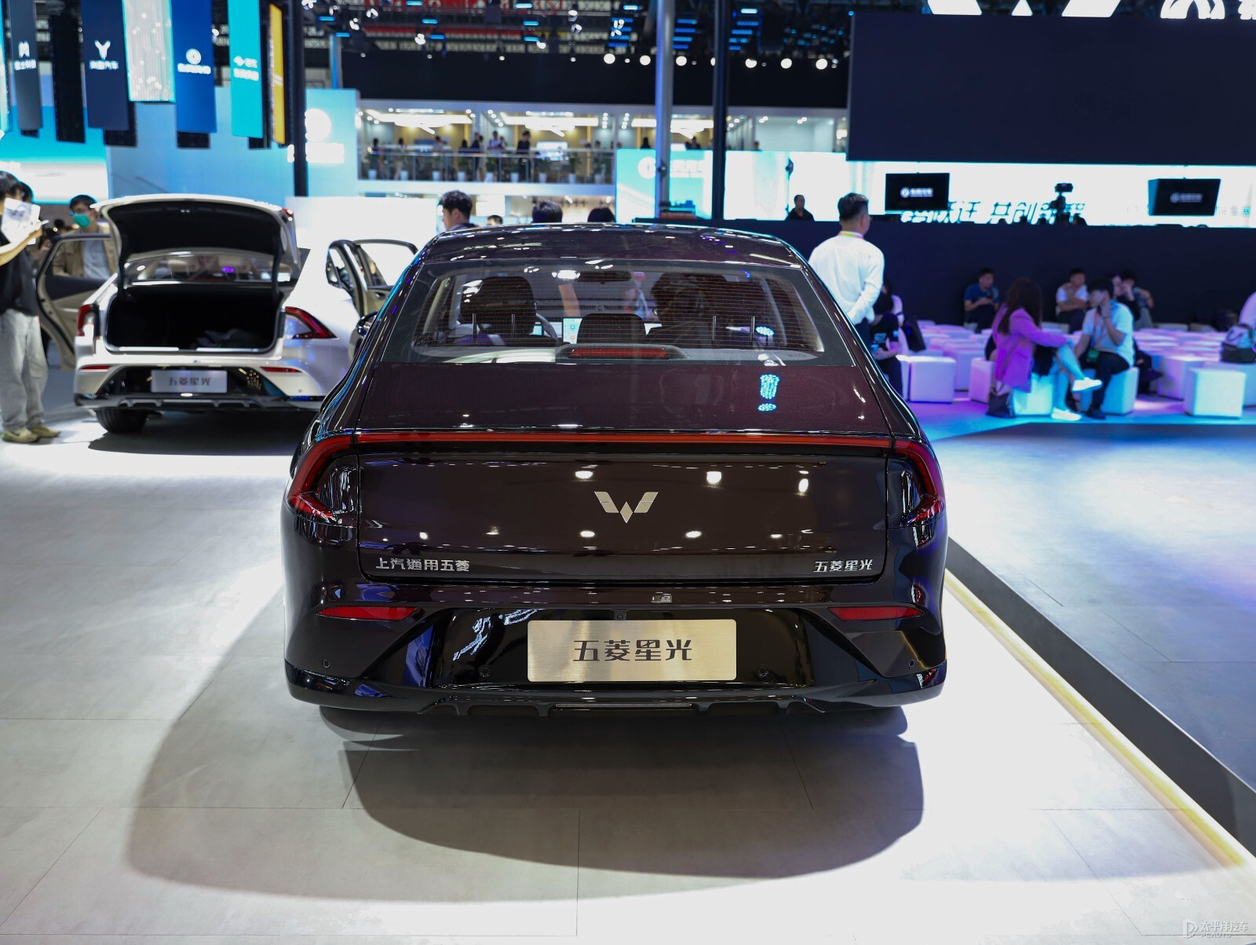SGMW: (595, 492, 658, 523)
